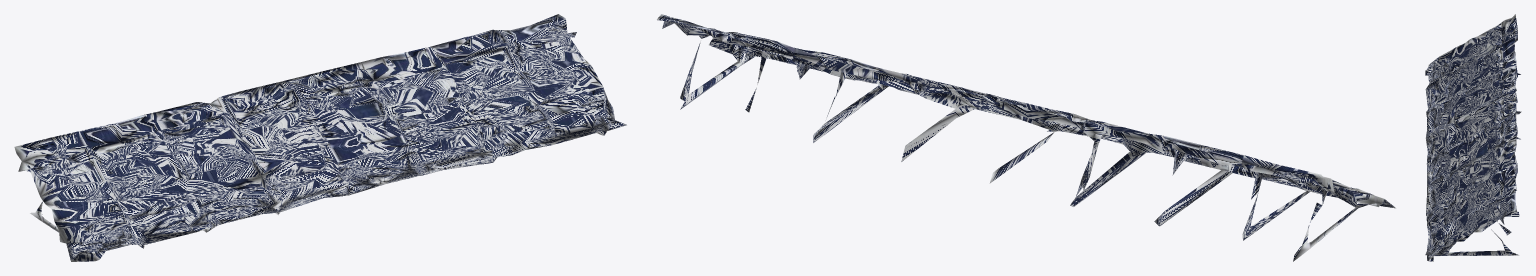
File: solar_lod1.glb
3 renders of one model, left to right at view 1: azimuth 30°, elevation 25°; view 2: azimuth 150°, elevation 25°; view 3: azimuth 270°, elevation 25°, orthographic. The views are drawn at different scales.
Bounding box in the file's own units: 1.9 × 0.2429 × 0.3909.
Materials: 1 (1 with a texture image).
